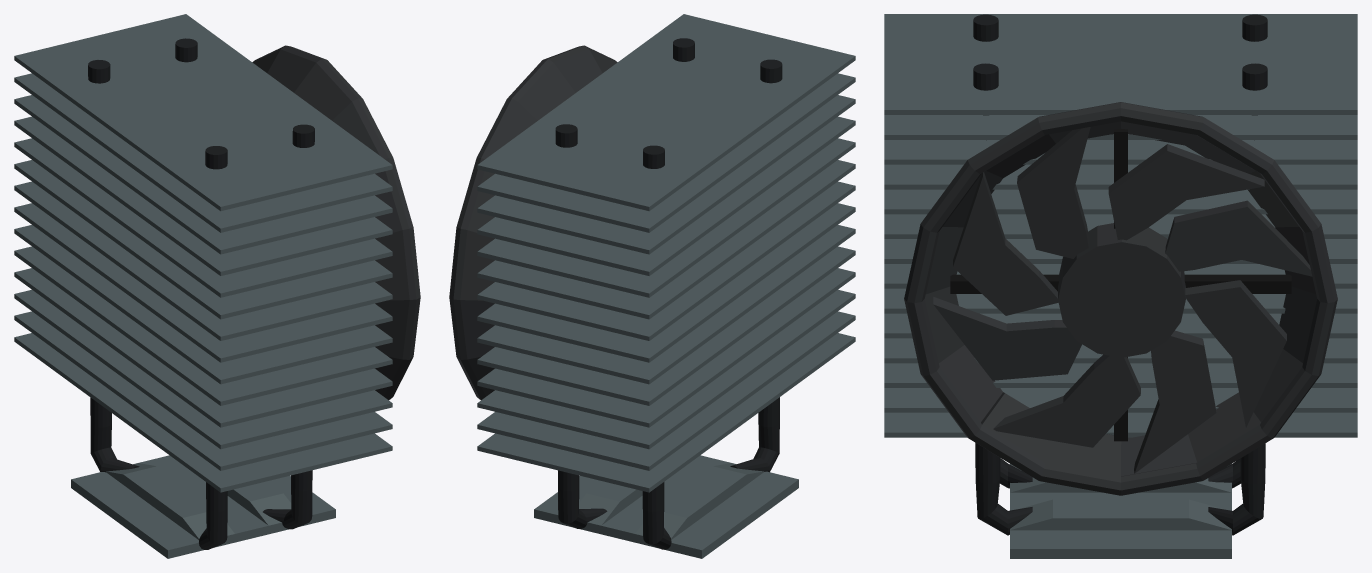
File: cooler.fbx
3 renders of one model, left to right at view 1: azimuth 30°, elevation 25°; view 2: azimuth 150°, elevation 25°; view 3: azimuth 270°, elevation 25°, orthographic. The views are drawn at different scales.
Visible parts, largest first — view 1: Cylinder.001; view 2: Cylinder.001; view 3: Cylinder.001, propeller.
Boxes of the visible parts, x1,y1,x2,y2 form: Cylinder.001: [14, 14, 420, 558]; Cylinder.001: [449, 14, 855, 558]; Cylinder.001: [884, 14, 1357, 558]; propeller: [933, 127, 1312, 473].
Size of the model in its own units: 253 by 473 by 426.
